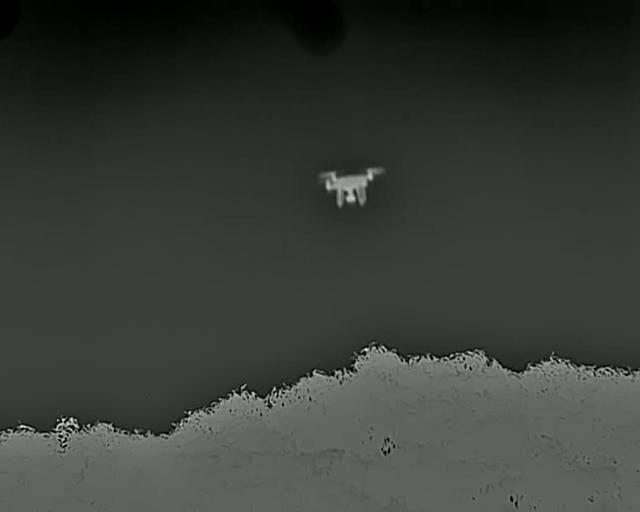DJI-Phantom: (319, 164, 385, 211)
